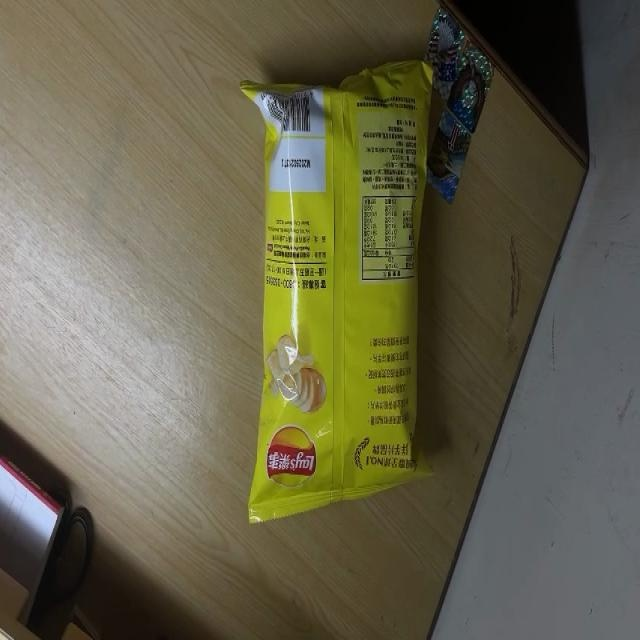Lay-s-original: (239, 61, 439, 527)
